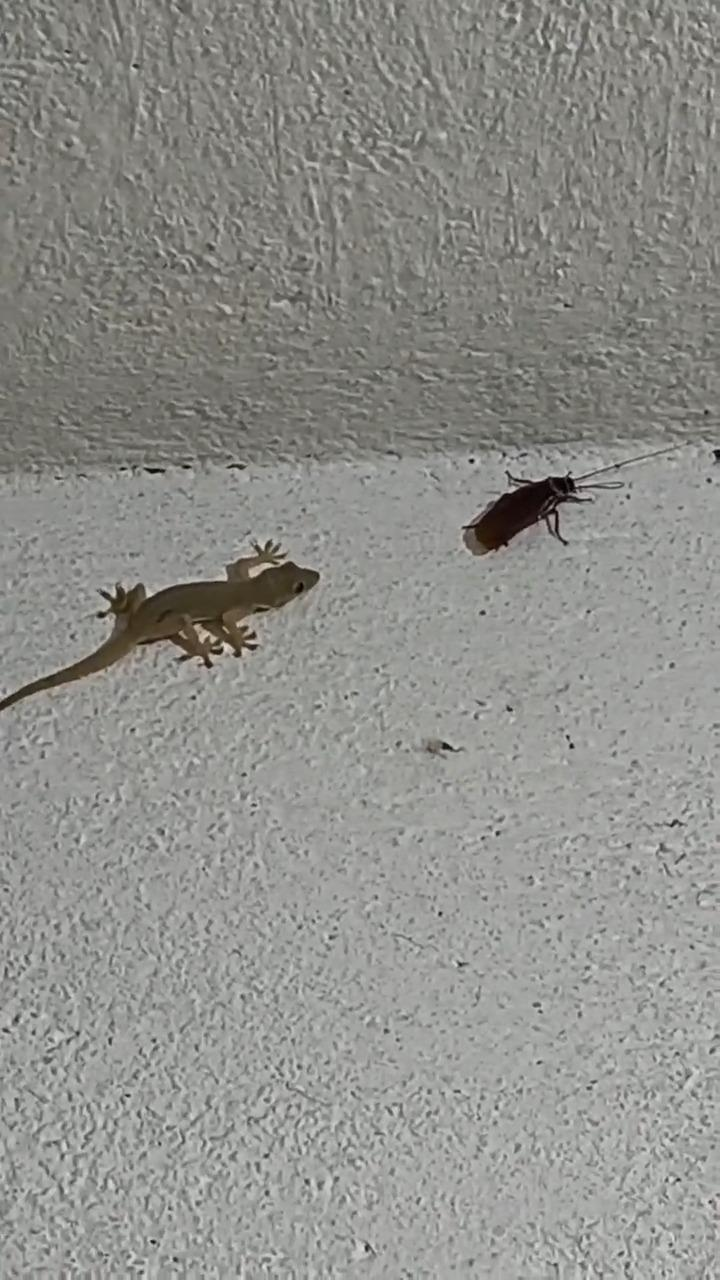cockroach: (453, 450, 653, 558)
lizard: (0, 538, 321, 718)
